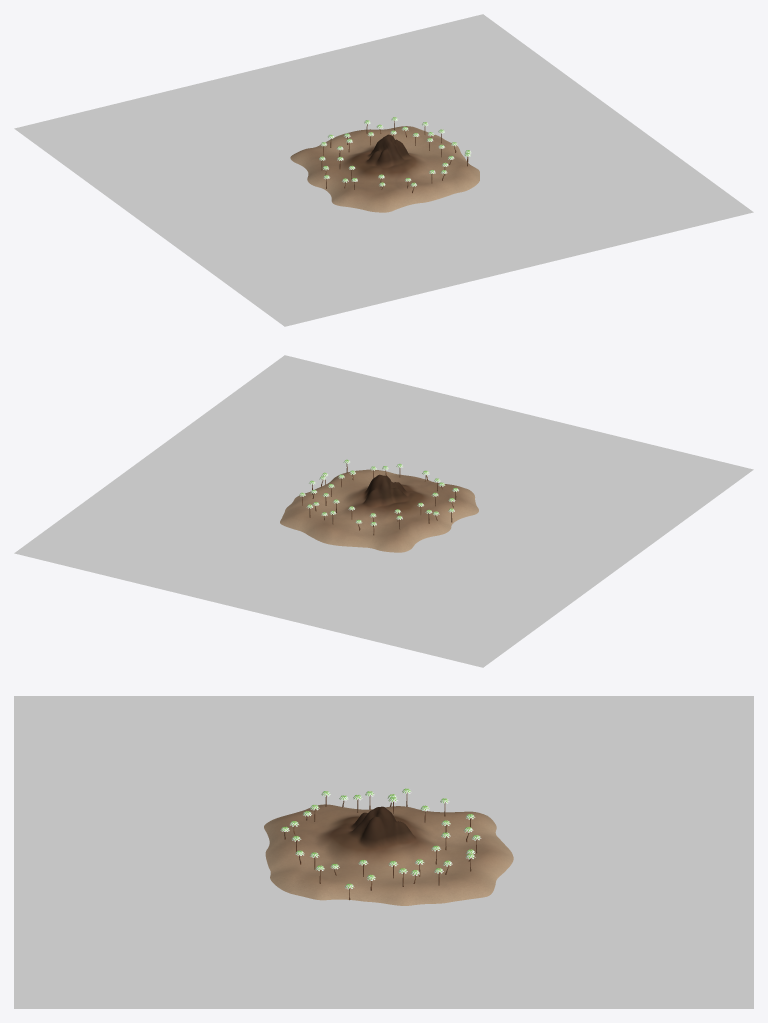
The model's file is island.glb.
3 renders of one model, top to bottom at view 1: azimuth 30°, elevation 25°; view 2: azimuth 150°, elevation 25°; view 3: azimuth 270°, elevation 25°, orthographic. The views are drawn at different scales.
Visible parts, largest first — view 1: Ocean, Plane.035; view 2: Ocean, Plane.035; view 3: Ocean, Plane.035.
Boxes of the visible parts, x1,y1,x2,y2 form: Ocean: (14, 14, 753, 326); Plane.035: (290, 126, 479, 212); Ocean: (14, 355, 753, 667); Plane.035: (280, 469, 478, 552); Ocean: (14, 696, 753, 1008); Plane.035: (264, 804, 513, 905).
Size of the model in its own units: 1000 by 117 by 1000.
Materials: 3 (3 with a texture image).
